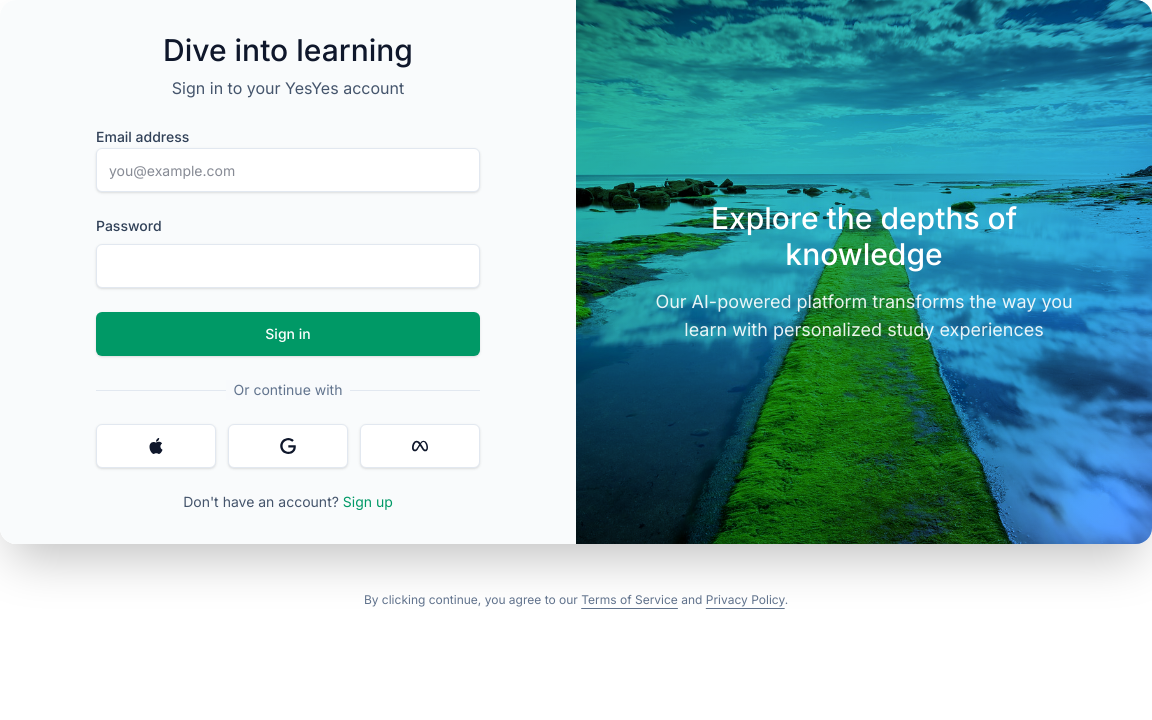
it: LoginForm › Authentication Flow › handles login error
In the field labelled "Email address": (288, 170) [96,148,480,192], type "test@example.com"
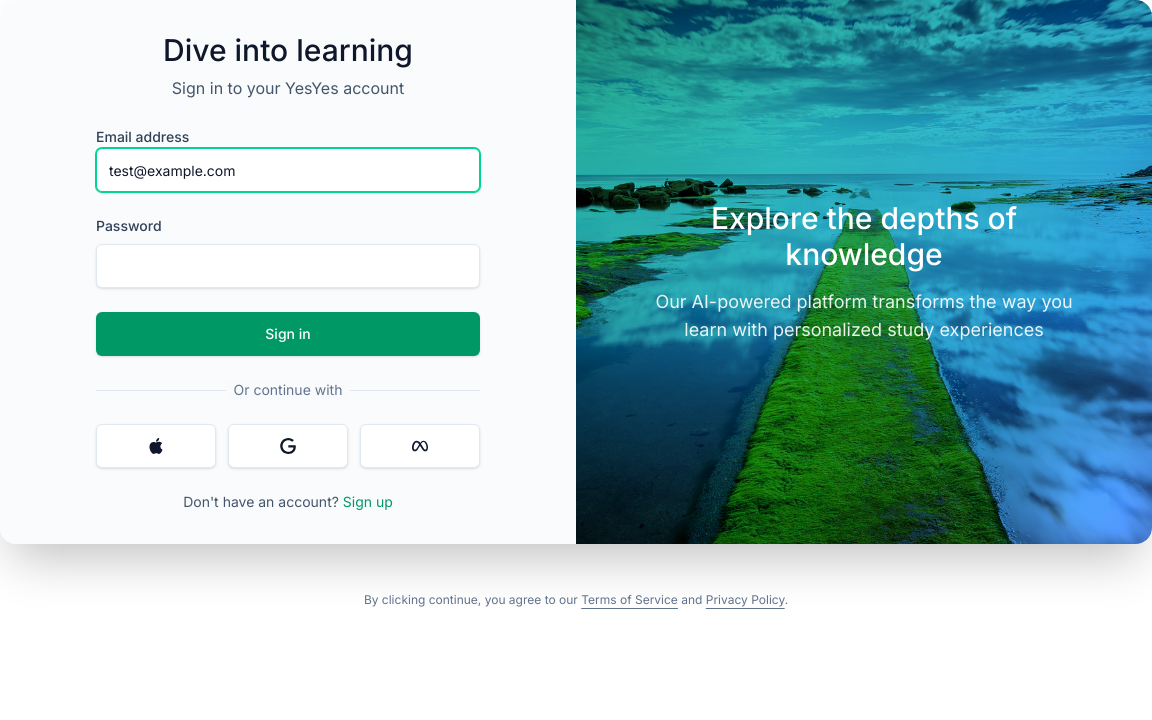
In the password field labelled "Password": (288, 266) [96,244,480,288], type "wrongpassword"
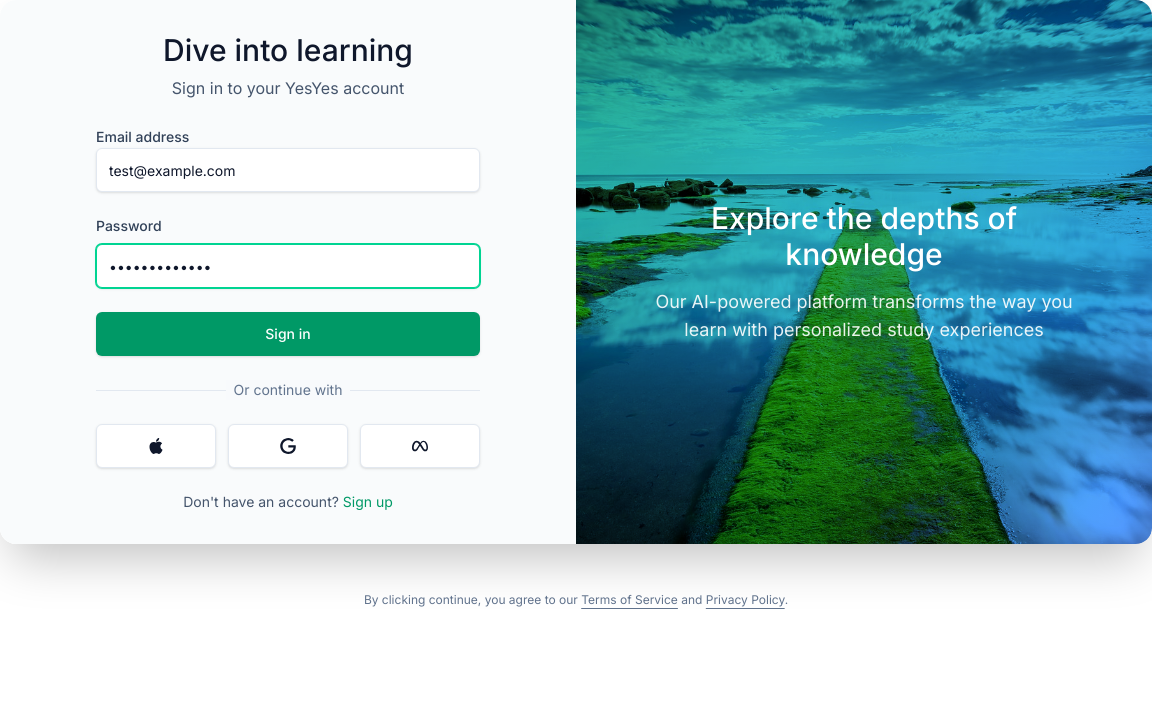
Click the button "Sign in": (288, 334) [96,312,480,356]
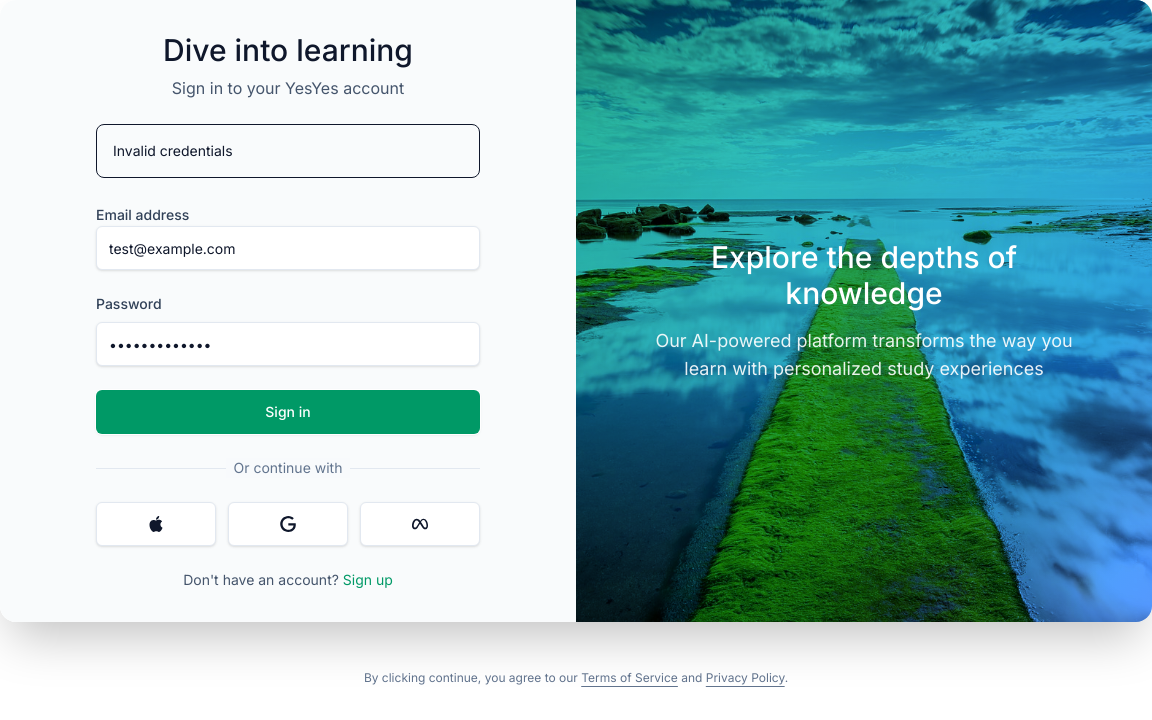
Result: the text "Invalid credentials" is shown at [113,142,233,159]
